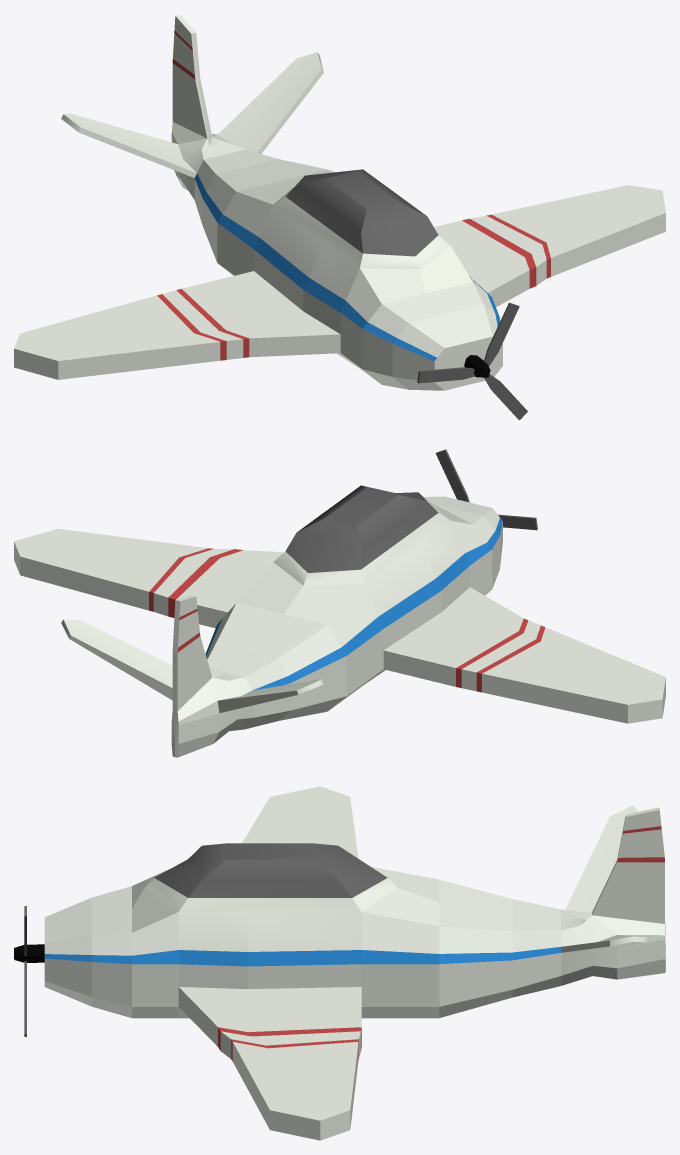
File: plane_variation_model.fbx
3 renders of one model, top to bottom at view 1: azimuth 30°, elevation 25°; view 2: azimuth 150°, elevation 25°; view 3: azimuth 270°, elevation 25°, orthographic. The views are drawn at different scales.
Parts seen in each view (by area): view 1: plane_body, plane_propeller; view 2: plane_body, plane_propeller; view 3: plane_body, plane_propeller.
Part boxes in pixels (<box>): plane_body: <box>14,14,665,390</box>; plane_propeller: <box>417,302,527,420</box>; plane_body: <box>14,485,665,757</box>; plane_propeller: <box>435,449,537,530</box>; plane_body: <box>44,786,665,1140</box>; plane_propeller: <box>14,906,44,1036</box>.
Bounding box in the file's own units: 8.41 × 2.42 × 6.93.
1 material, 1 textured.
